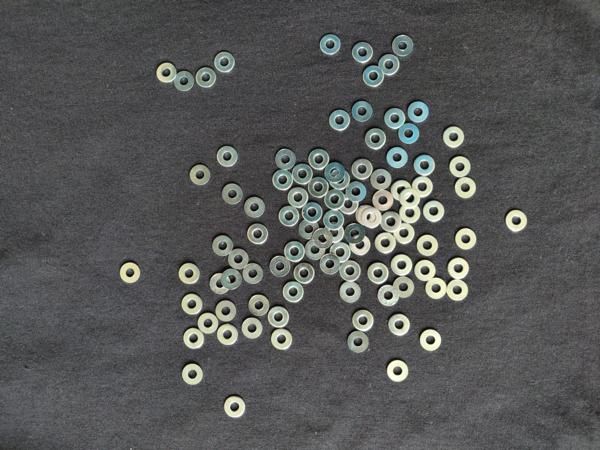circle: (441, 122, 469, 151), (223, 394, 249, 421), (345, 329, 372, 355), (328, 107, 353, 134), (454, 176, 481, 201), (181, 327, 207, 352), (390, 33, 416, 58), (367, 260, 392, 286), (387, 358, 411, 385), (392, 275, 417, 300), (362, 65, 388, 89), (350, 99, 376, 123), (446, 278, 469, 305), (153, 60, 178, 84), (270, 327, 295, 351), (387, 313, 412, 337), (423, 198, 447, 223), (175, 263, 201, 286), (282, 280, 305, 306), (338, 281, 364, 304), (306, 146, 329, 172), (118, 261, 142, 285), (350, 40, 374, 64), (216, 143, 239, 168), (221, 182, 244, 207), (447, 255, 470, 280), (414, 153, 437, 178), (449, 155, 474, 178), (213, 49, 237, 72), (180, 293, 204, 316), (243, 196, 267, 219), (211, 234, 234, 258), (216, 323, 240, 346), (267, 306, 291, 329), (455, 227, 478, 251), (416, 234, 440, 257), (419, 327, 442, 351), (352, 308, 375, 332), (390, 254, 414, 277), (190, 162, 212, 187), (248, 292, 270, 317), (221, 269, 244, 292), (320, 32, 343, 55), (377, 284, 400, 307), (245, 223, 269, 245), (243, 262, 265, 286), (505, 209, 527, 233), (292, 162, 314, 186), (324, 161, 348, 183), (384, 107, 406, 131), (387, 145, 409, 169), (372, 190, 394, 214), (196, 65, 217, 90), (180, 364, 203, 386), (209, 272, 231, 295), (269, 255, 291, 278), (283, 240, 305, 263), (278, 206, 301, 228), (287, 187, 310, 209), (408, 101, 431, 123), (380, 210, 402, 233), (294, 262, 315, 286), (339, 261, 363, 282), (173, 70, 195, 92), (379, 53, 401, 75), (415, 260, 437, 282), (344, 224, 366, 246), (307, 177, 329, 199), (330, 169, 352, 191), (365, 128, 387, 150), (375, 232, 397, 254), (228, 249, 251, 270), (425, 278, 446, 301), (274, 150, 297, 171), (346, 180, 367, 203), (338, 192, 359, 215), (393, 223, 416, 244), (216, 301, 237, 323), (242, 318, 263, 340), (329, 244, 351, 265), (323, 210, 345, 231), (302, 202, 323, 224), (352, 158, 373, 180), (370, 169, 392, 190), (362, 207, 383, 229), (391, 180, 413, 201), (400, 188, 421, 210), (412, 177, 434, 198), (349, 236, 372, 256), (397, 125, 421, 144), (198, 313, 219, 334), (320, 253, 340, 275), (299, 220, 321, 240), (325, 188, 345, 210), (399, 204, 421, 224), (323, 225, 344, 245), (356, 205, 376, 226), (272, 170, 294, 189), (306, 240, 326, 260), (312, 229, 333, 248)
